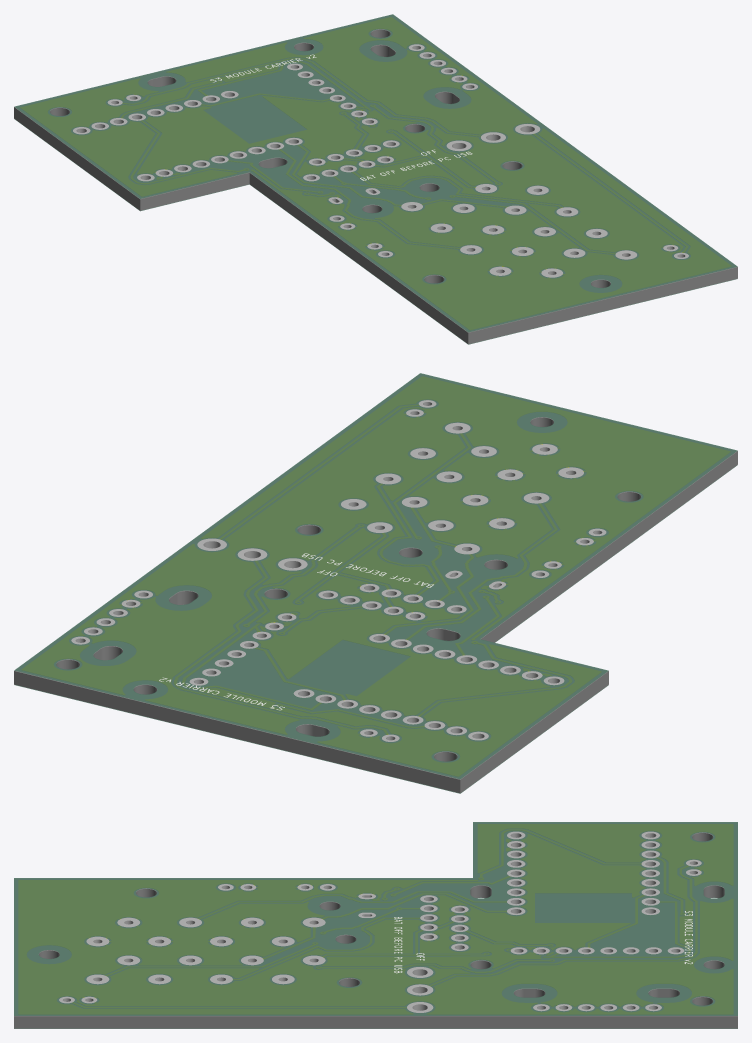
Rendered from preview-local-mount.glb.
The picture shows the model from 3 angles, top to bottom: view 1: azimuth 30°, elevation 25°; view 2: azimuth 150°, elevation 25°; view 3: azimuth 270°, elevation 25°; orthographic projection. The views are drawn at different scales.
Visible parts, largest first — view 1: =>[0:1:1:6], =>[0:1:1:2], =>[0:1:1:8], =>[0:1:1:3], =>[0:1:1:7]; view 2: =>[0:1:1:6], =>[0:1:1:2], =>[0:1:1:8], =>[0:1:1:3], =>[0:1:1:7]; view 3: =>[0:1:1:6], =>[0:1:1:2], =>[0:1:1:8], =>[0:1:1:3], =>[0:1:1:7], =>[0:1:1:5].
Boxes of the visible parts, box(x1,y1,x2,y2) form: =>[0:1:1:6]: box(14, 14, 737, 332); =>[0:1:1:2]: box(21, 17, 730, 329); =>[0:1:1:8]: box(14, 15, 737, 344); =>[0:1:1:3]: box(73, 44, 688, 277); =>[0:1:1:7]: box(14, 119, 736, 344); =>[0:1:1:6]: box(14, 373, 737, 779); =>[0:1:1:2]: box(22, 377, 729, 775); =>[0:1:1:8]: box(14, 374, 737, 793); =>[0:1:1:3]: box(71, 400, 606, 741); =>[0:1:1:7]: box(14, 465, 737, 793); =>[0:1:1:6]: box(14, 822, 737, 1015); =>[0:1:1:2]: box(19, 824, 732, 1013); =>[0:1:1:8]: box(14, 823, 737, 1028); =>[0:1:1:3]: box(59, 831, 701, 1012); =>[0:1:1:7]: box(14, 897, 737, 1028); =>[0:1:1:5]: box(394, 911, 692, 973).
Size of the model in its own units: 0.052 by 0.00163 by 0.082.
